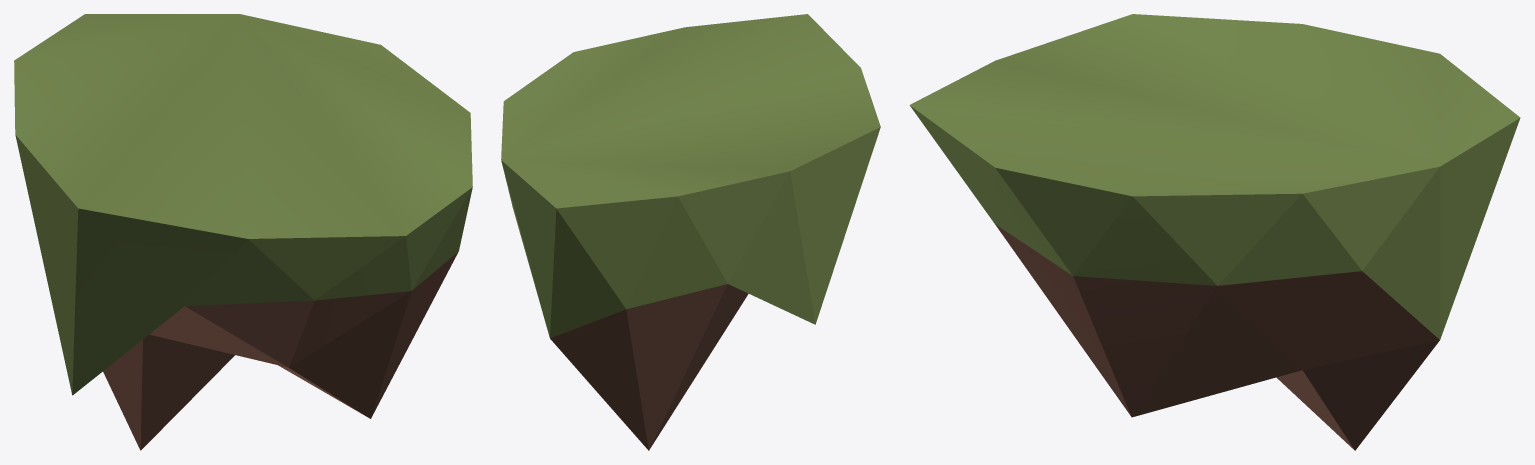
Rendered from lvl2-bloqueFinal.fbx.
3 views of the same model, side by side, from view 1: azimuth 30°, elevation 25°; view 2: azimuth 150°, elevation 25°; view 3: azimuth 270°, elevation 25° (orthographic). The views are drawn at different scales.
Parts seen in each view (by area): view 1: Icosphere.001; view 2: Icosphere.001; view 3: Icosphere.001.
Boxes of the visible parts, x1,y1,x2,y2 form: Icosphere.001: [14, 14, 472, 450]; Icosphere.001: [501, 14, 880, 450]; Icosphere.001: [909, 14, 1520, 450].
Bounding box in the file's own units: 5142 × 4744 × 7290.
